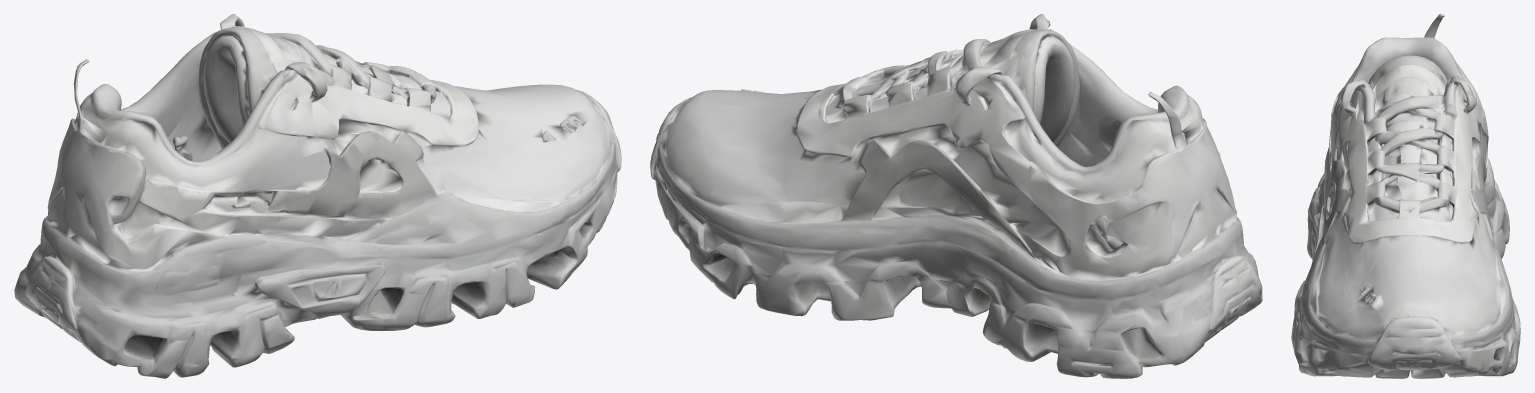
File: shelf_sneaker_athletic_v01.optimized.glb
3 views of the same model, side by side, from view 1: azimuth 30°, elevation 25°; view 2: azimuth 150°, elevation 25°; view 3: azimuth 270°, elevation 25° (orthographic). The views are drawn at different scales.
Parts seen in each view (by area): view 1: tripo_node_f0619ef6-d46f-43dd-9380-d426ad830733; view 2: tripo_node_f0619ef6-d46f-43dd-9380-d426ad830733; view 3: tripo_node_f0619ef6-d46f-43dd-9380-d426ad830733.
Part boxes in pixels (left/top/right/bottom): tripo_node_f0619ef6-d46f-43dd-9380-d426ad830733: left=14, top=14, right=621, bottom=378; tripo_node_f0619ef6-d46f-43dd-9380-d426ad830733: left=650, top=14, right=1262, bottom=378; tripo_node_f0619ef6-d46f-43dd-9380-d426ad830733: left=1291, top=14, right=1520, bottom=378.
Bounding box in the file's own units: 0.9998 × 0.4715 × 0.4378.
Materials: 1 (1 with a texture image).
